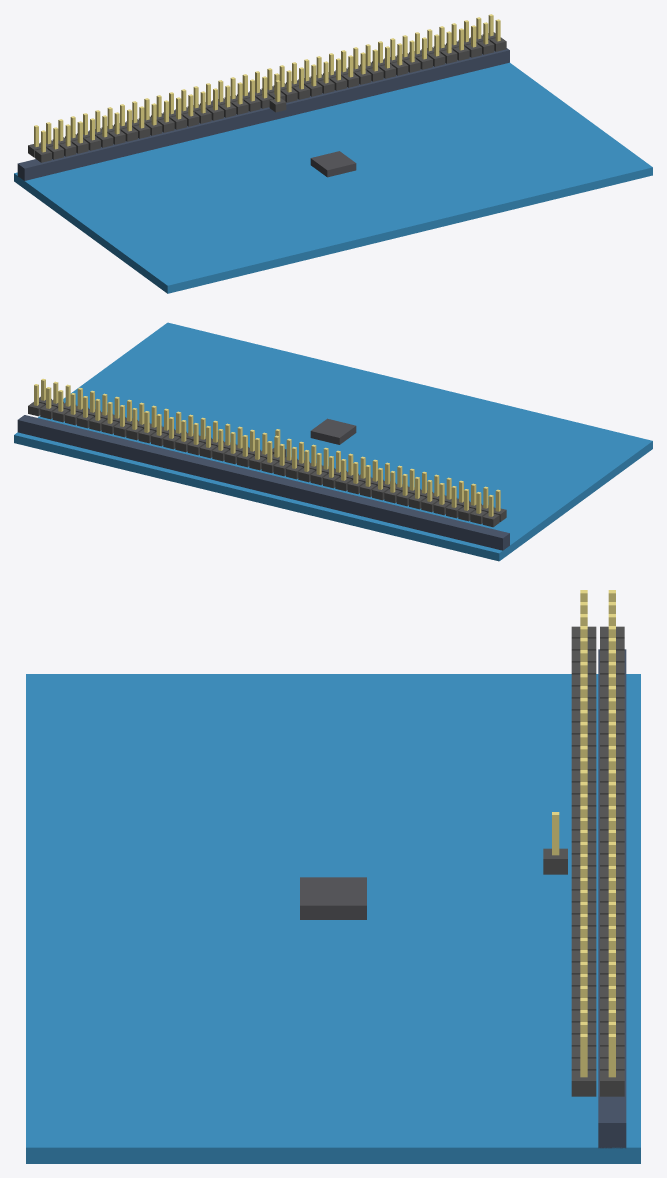
File: arduino-mega.glb
3 renders of one model, top to bottom at view 1: azimuth 30°, elevation 25°; view 2: azimuth 150°, elevation 25°; view 3: azimuth 270°, elevation 25°, orthographic. The views are drawn at different scales.
Parts seen in each view (by area): view 1: arduino-mega_mesh; view 2: arduino-mega_mesh; view 3: arduino-mega_mesh.
Part boxes in pixels (x1=…): arduino-mega_mesh: x1=14, y1=14, x2=652, y2=293; arduino-mega_mesh: x1=14, y1=322, x2=652, y2=561; arduino-mega_mesh: x1=26, y1=590, x2=640, y2=1163.
Size of the model in its own units: 100 by 11.2 by 55.
